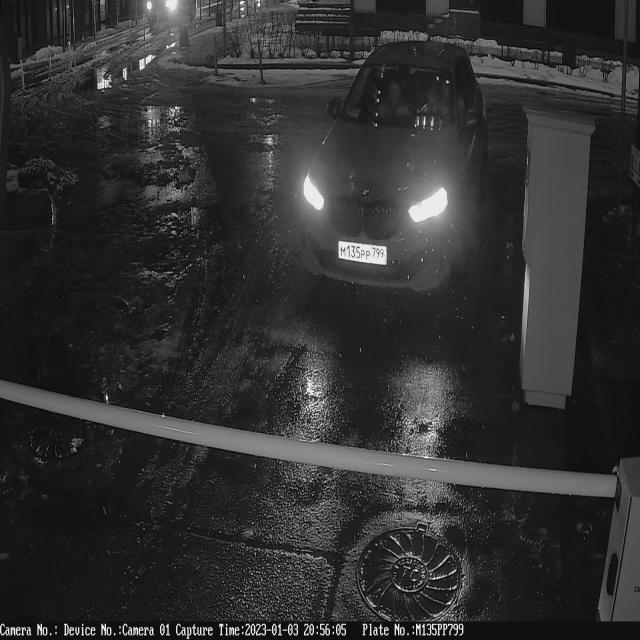car-plate-numbers: (337, 237, 391, 269)
